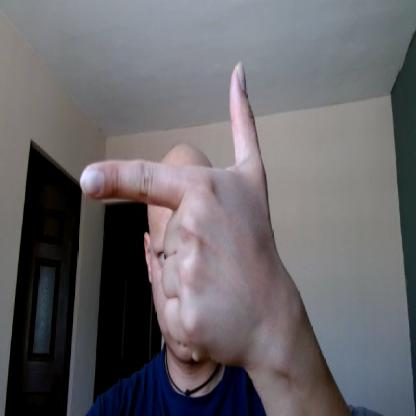G: (79, 61, 272, 358)
